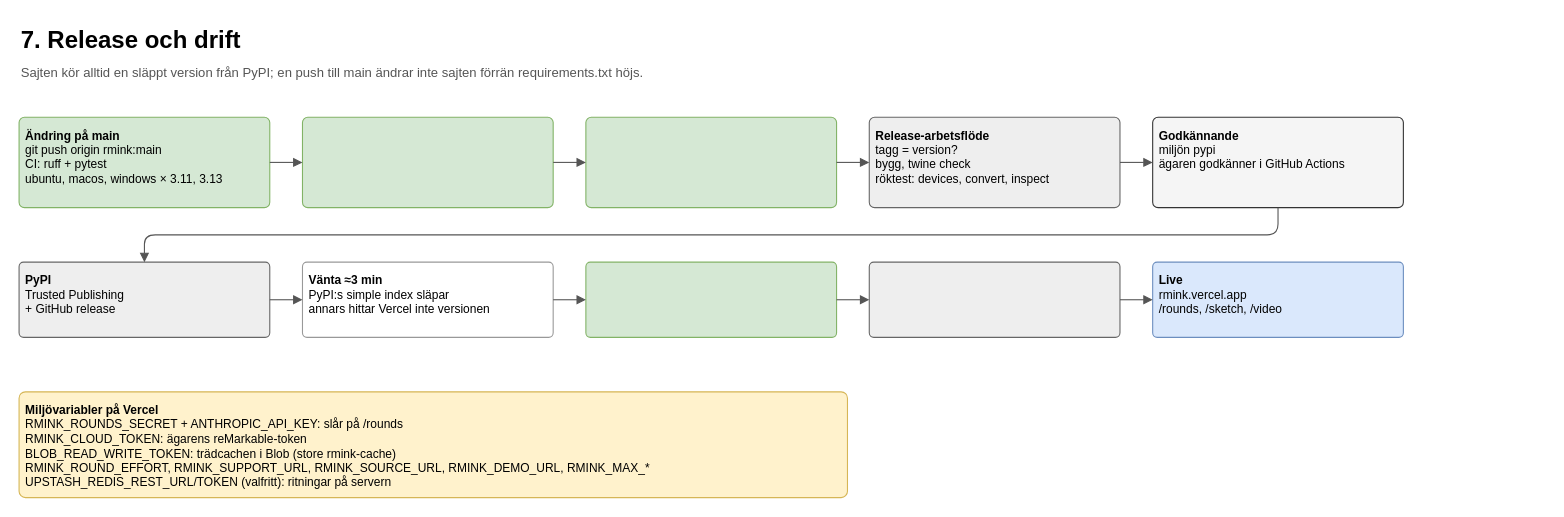
The diagram is 1564 pixels wide and 517 high, and some of its shapes have lost their labels. The box of each missing label's shape, as (x1, y1, x2, y2) in pixels:
Höj deploy deploy/vercel/requirements.txt rmink[web,rounds]==X.Y.Z: (585, 261, 837, 337)
Tagg vX.Y.Z git tag -a, git push origin vX.Y.Z: (585, 116, 837, 208)
Vercel-bygge app.py + bin/rmapi + public/ region arn1 vid fel: vercel redeploy: (868, 261, 1120, 337)
Version + CHANGELOG pyproject.toml version CHANGELOG.md: (301, 116, 553, 208)
